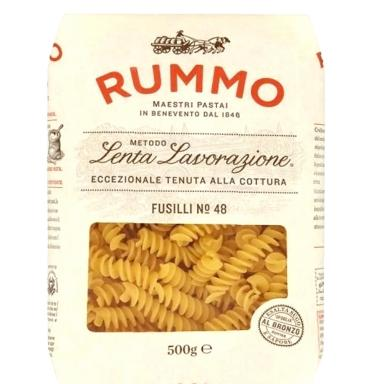pasta package: (48, 15, 324, 383)
